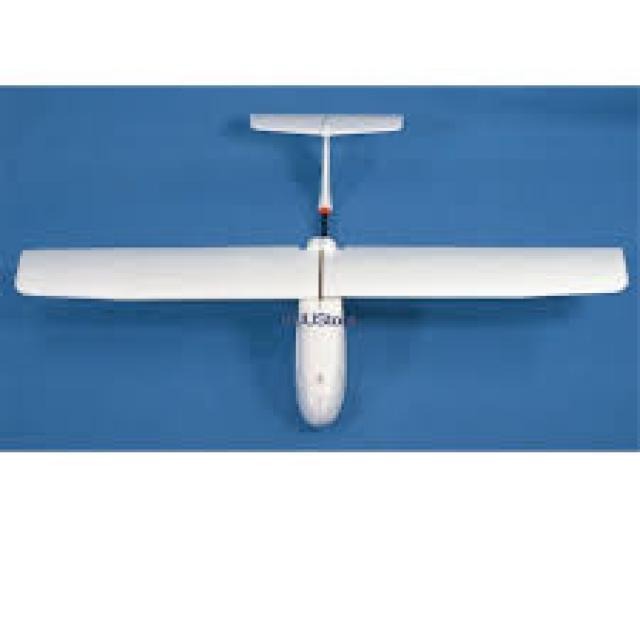UAV: (30, 101, 628, 436)
